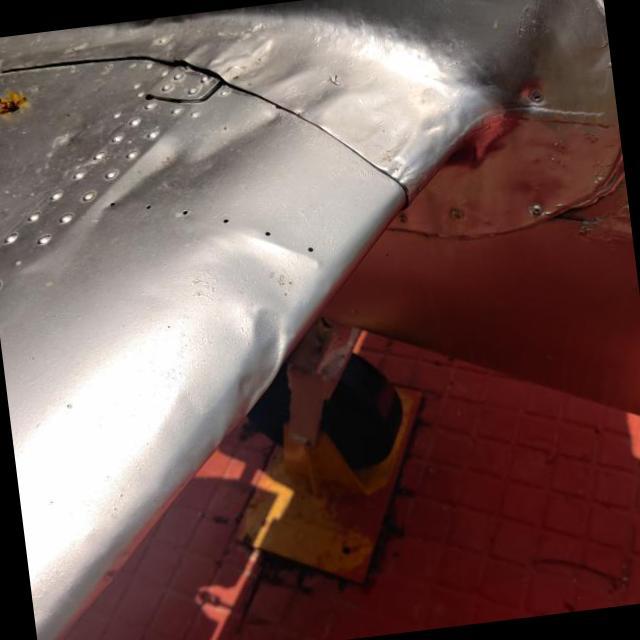Dent: (88, 86, 289, 221), (234, 309, 289, 419)
